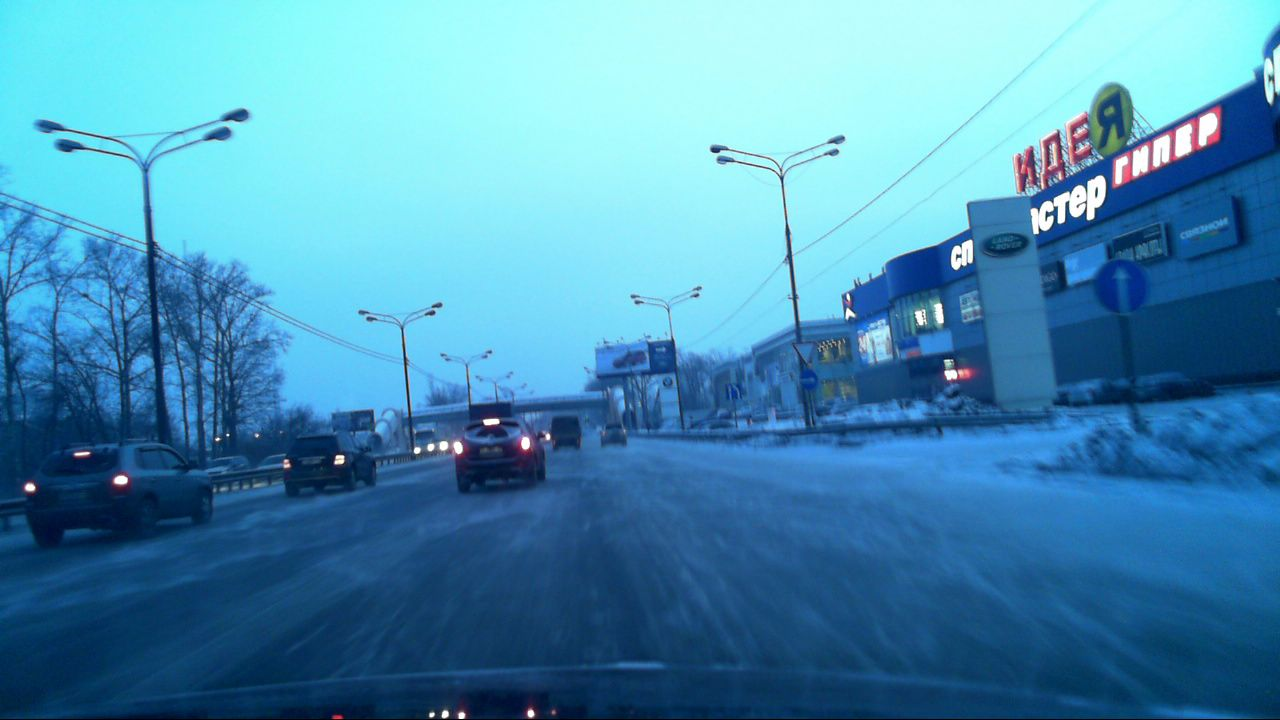Turn Right: (797, 370, 820, 392)
